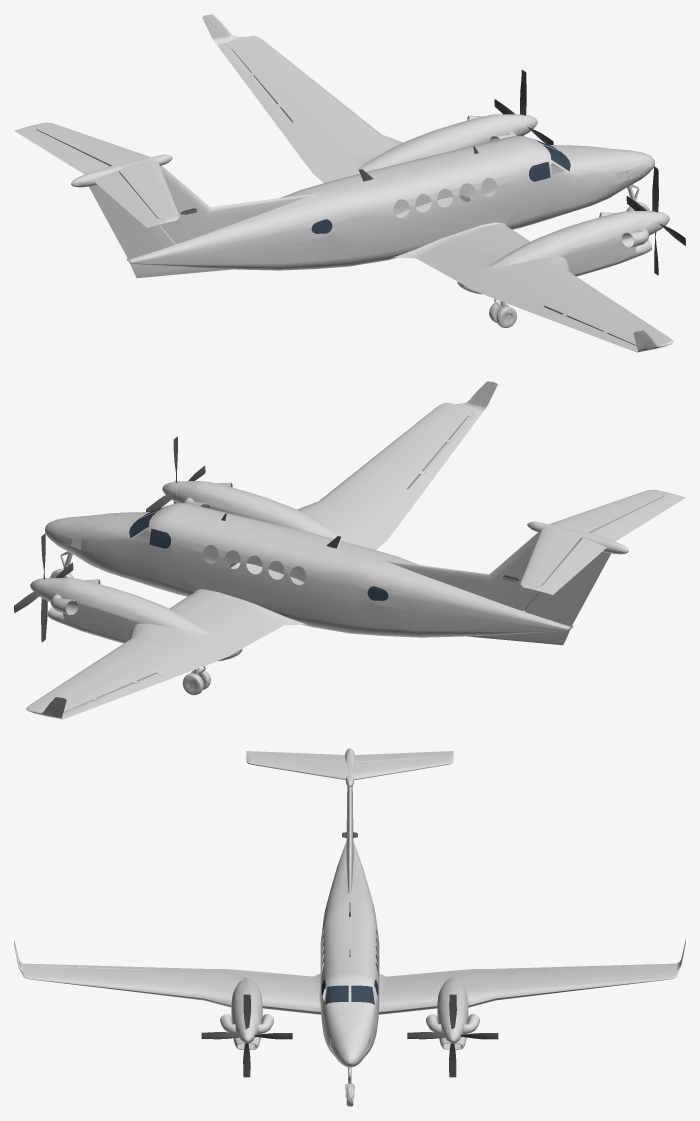
3 views of the same model, one above another, from view 1: azimuth 30°, elevation 25°; view 2: azimuth 150°, elevation 25°; view 3: azimuth 270°, elevation 25° (orthographic). The views are drawn at different scales.
Visible parts, largest first — view 1: body, spin (×2), glass; view 2: body, glass, spin; view 3: body, spin (×2), glass.
Boxes of the visible parts, x1=… form: body: x1=14, y1=14, x2=673, y2=352; spin (×2): x1=494, y1=69, x2=685, y2=275; glass: x1=311, y1=139, x2=570, y2=233; body: x1=26, y1=381, x2=685, y2=719; glass: x1=129, y1=506, x2=388, y2=600; spin: x1=14, y1=533, x2=73, y2=642; body: x1=14, y1=748, x2=685, y2=1106; spin (×2): x1=201, y1=994, x2=498, y2=1077; glass: x1=321, y1=979, x2=378, y2=1004.
Bounding box in the file's own units: 1.72 × 0.5294 × 2.2.
